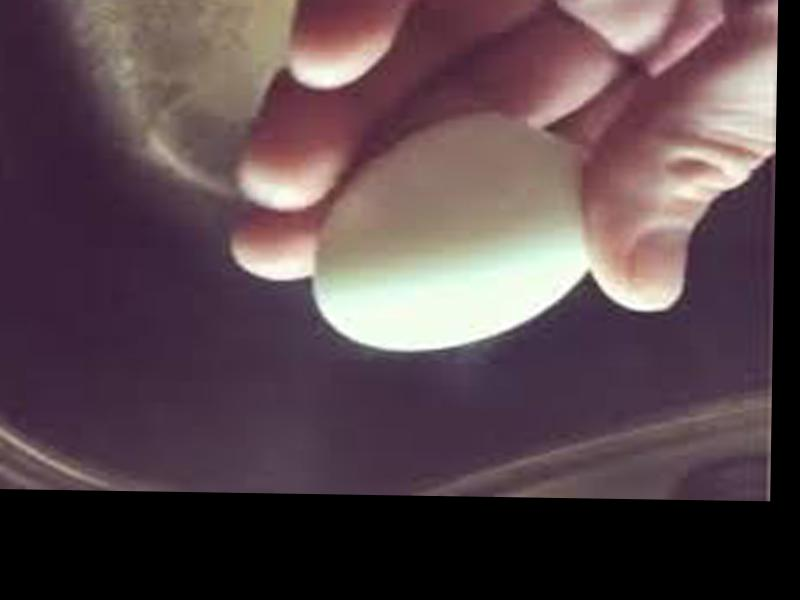Eggs: (310, 114, 593, 354)
